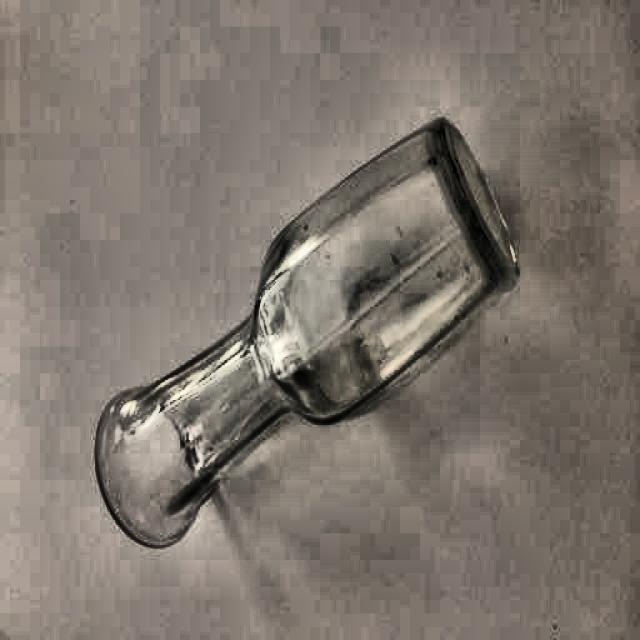glass: (96, 116, 528, 554)
